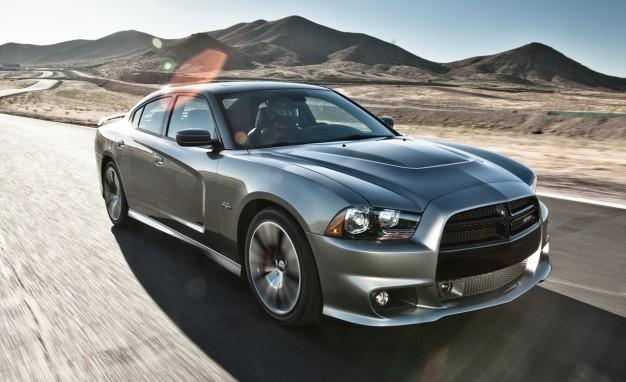car: (91, 77, 555, 338)
